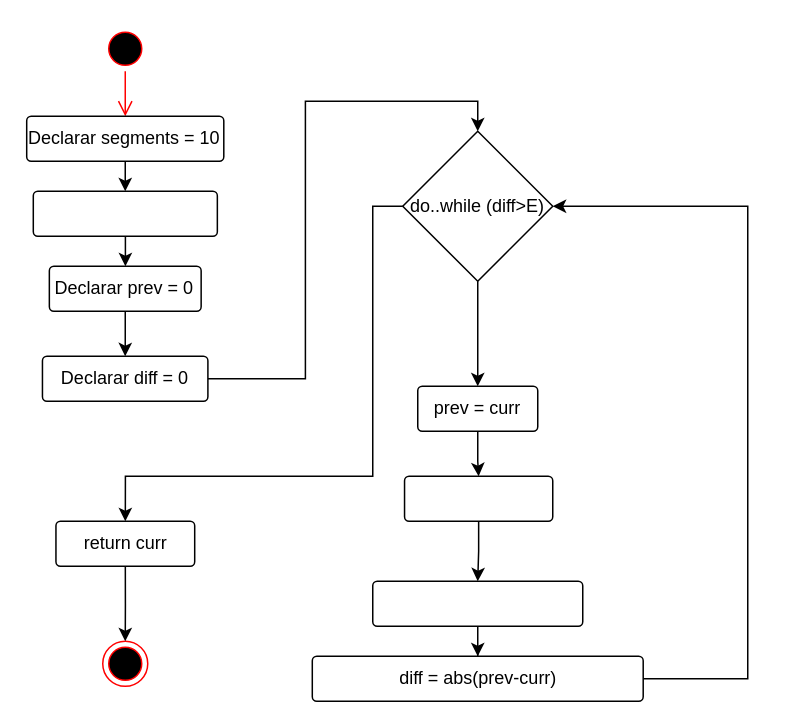
The diagram is 786 pixels wide and 728 high, and some of its shapes have lost their labels. Each missing label, with the centre of its shape:
"curr = simpson(x,segments)" goes at (x=477, y=603).
"Declarar curr = simpson(x,segments)" goes at (x=124, y=213).
"segments *= 2" goes at (x=478, y=498).
